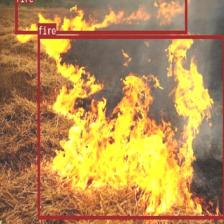fire: (37, 35, 224, 218), (15, 0, 186, 34)
